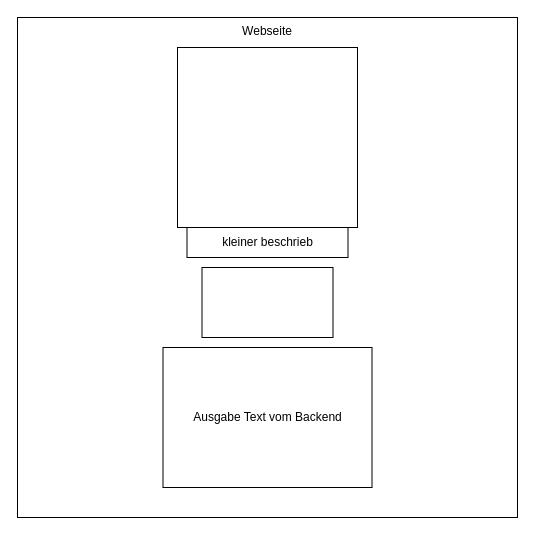
This 535x535 diagram has some shape labels left out. Each missing label, with the centre of its shape:
"Button für um die Wetterdaten abrufen zu können" goes at [267,302].
"Logo der API" goes at [267,137].
